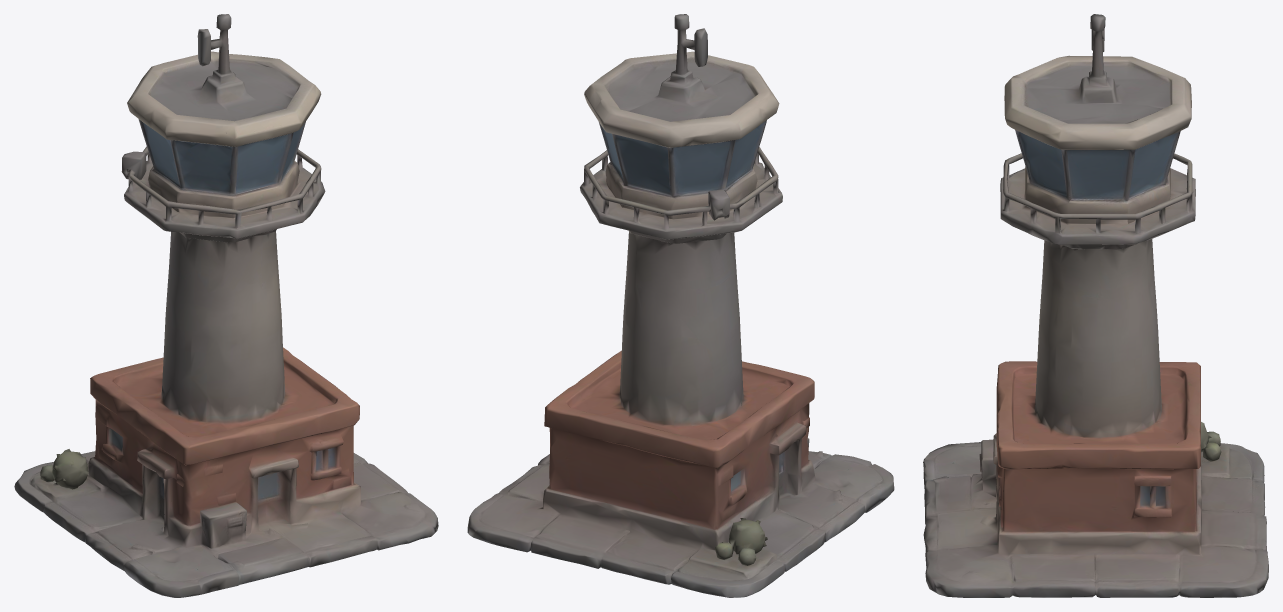
File: airport_tower.glb
The picture shows the model from 3 angles, left to right: view 1: azimuth 30°, elevation 25°; view 2: azimuth 150°, elevation 25°; view 3: azimuth 270°, elevation 25°; orthographic projection. The views are drawn at different scales.
Visible parts, largest first — view 1: tripo_node_7015b38b-3434-4658-8dc8-dd5e5fb5c36a; view 2: tripo_node_7015b38b-3434-4658-8dc8-dd5e5fb5c36a; view 3: tripo_node_7015b38b-3434-4658-8dc8-dd5e5fb5c36a.
Part boxes in pixels (<box>): tripo_node_7015b38b-3434-4658-8dc8-dd5e5fb5c36a: <box>14,14,438,597</box>; tripo_node_7015b38b-3434-4658-8dc8-dd5e5fb5c36a: <box>467,14,894,597</box>; tripo_node_7015b38b-3434-4658-8dc8-dd5e5fb5c36a: <box>923,14,1268,597</box>.
Size of the model in its own units: 0.6156 by 1 by 0.6151.
Materials: 1 (1 with a texture image).
